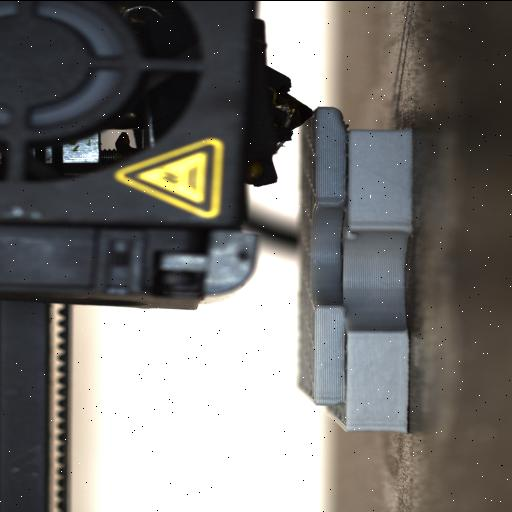layer_shift: (331, 108, 355, 432)
